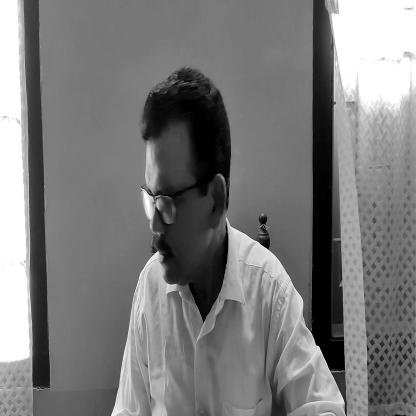Distracted: (126, 65, 238, 294)
